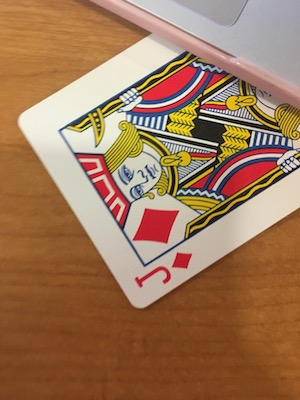JackOfDiamonds: (12, 28, 300, 316)
